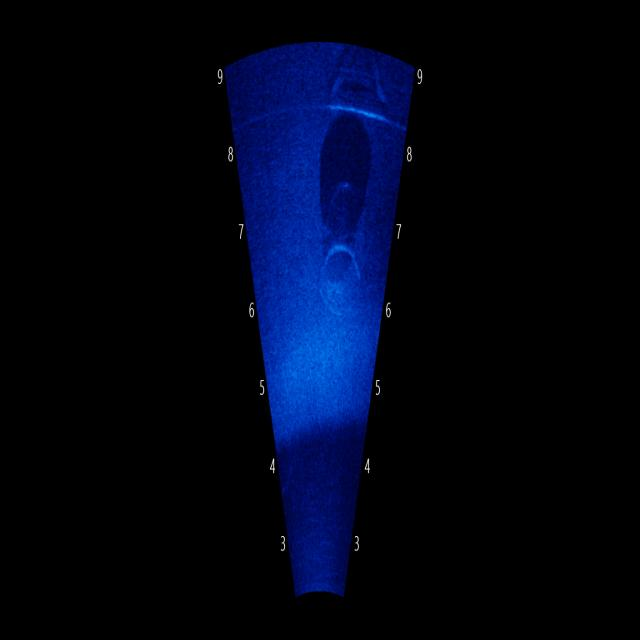circle: (307, 195, 367, 347)
